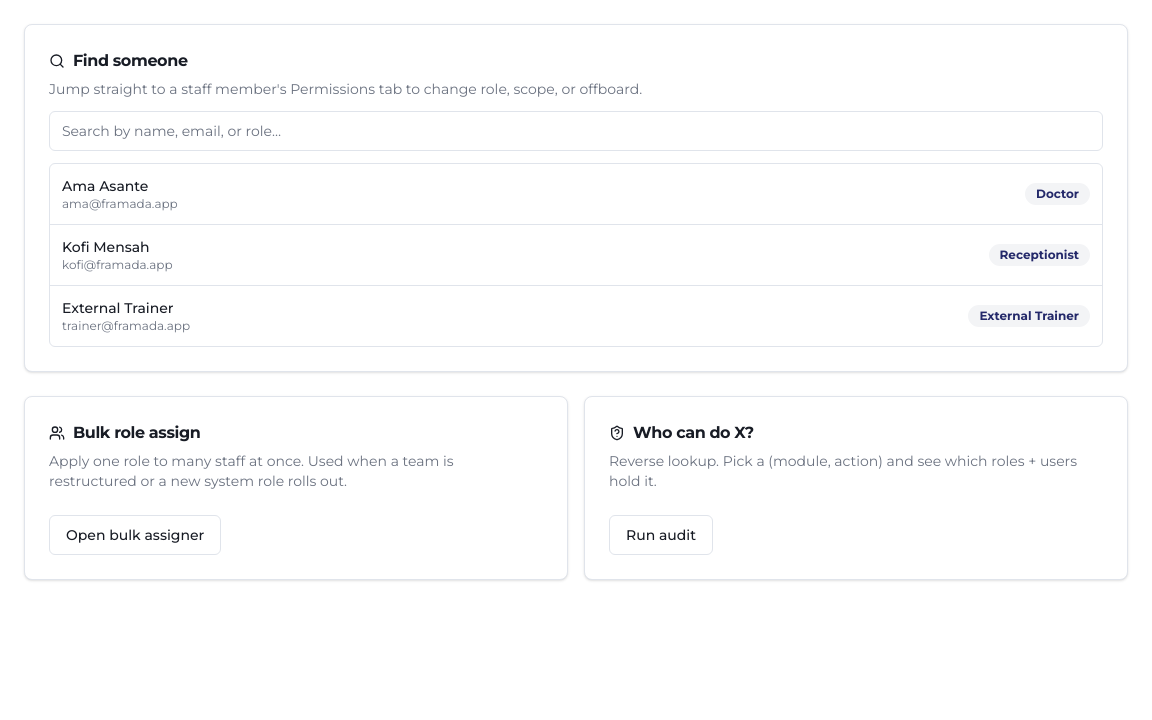
it: AccessManagementOverviewPage — search filtering › filters staff by role
expect the link "Ama Asante ama@framada.app doctor" is shown: met, box [62,177,1090,211]
Type "external_trainer" into the field with placeholder "Search by name, email, or role…".
click(576, 131); type("external_trainer")  # box [49,111,1103,151]
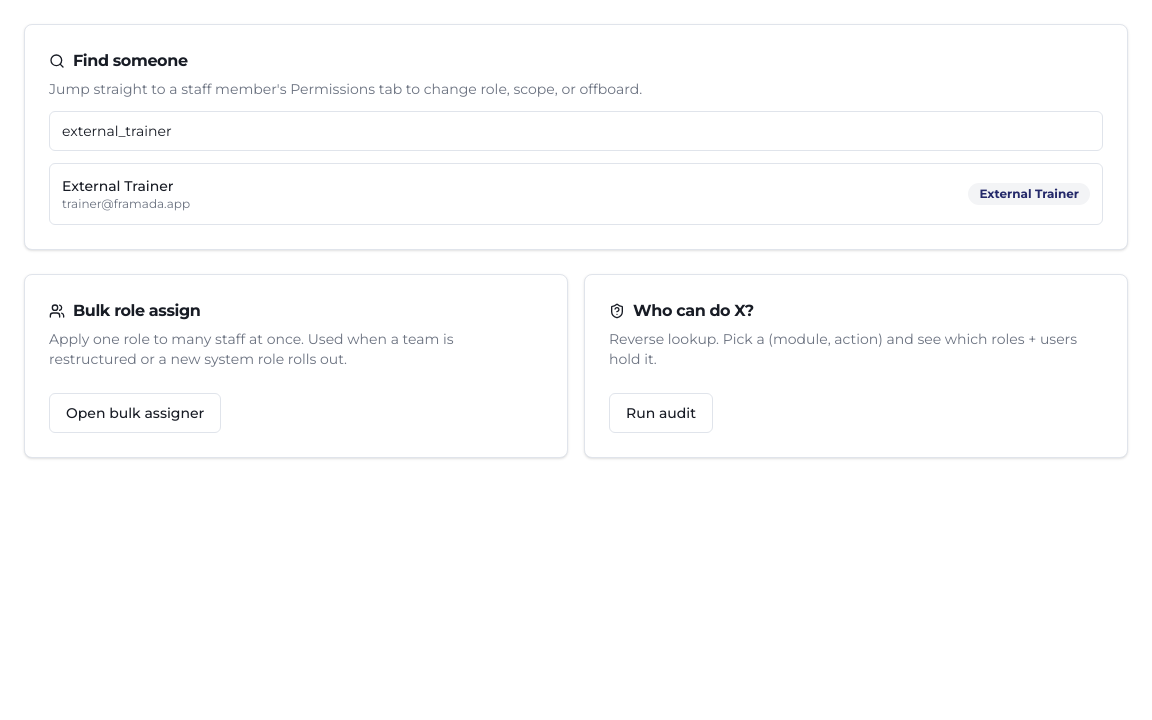
expect the link "External Trainer trainer@framada.app external trainer" is shown: met, box [62,177,1090,211]
expect the link "Ama Asante" is gone: met
